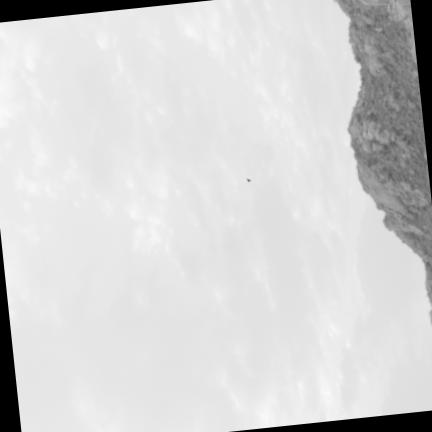Shahed: (247, 177, 251, 182)
